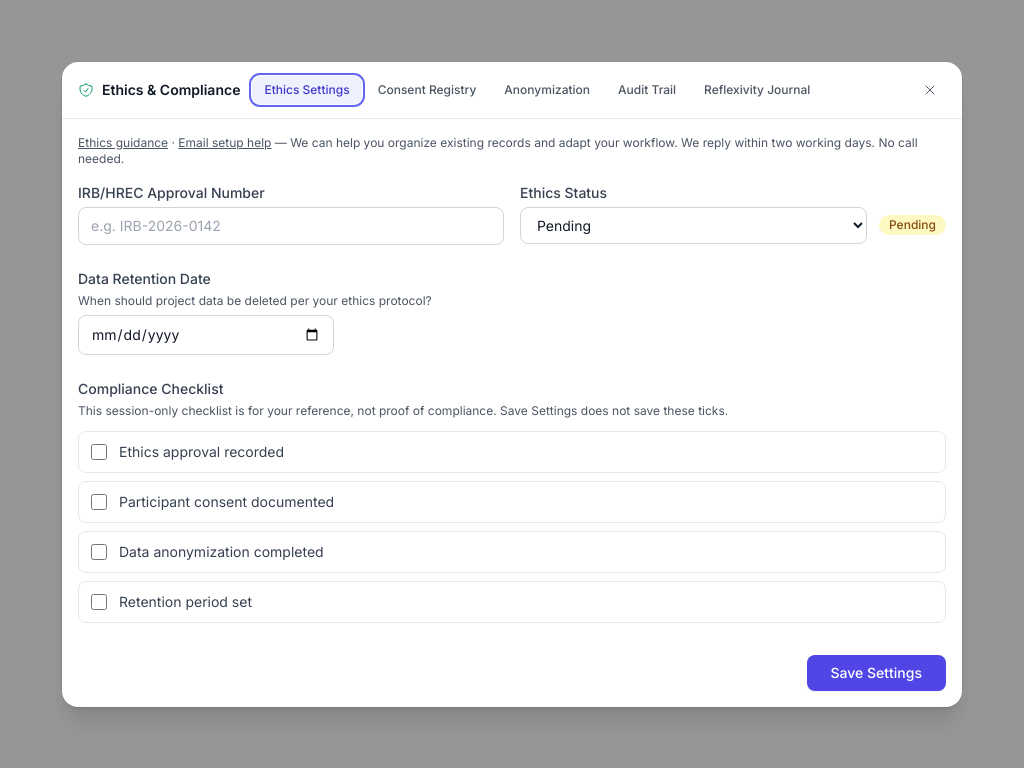
ethics panel truthful reads and teaching › rejects a malformed journal without making up an empty journal
The width and height of the screenshot is (1024, 768).
Expected: the button "Save Settings" is shown, [807,654,946,690]
Click the button "Reflexivity Journal" at coordinates (757, 90), box [692,76,822,104]
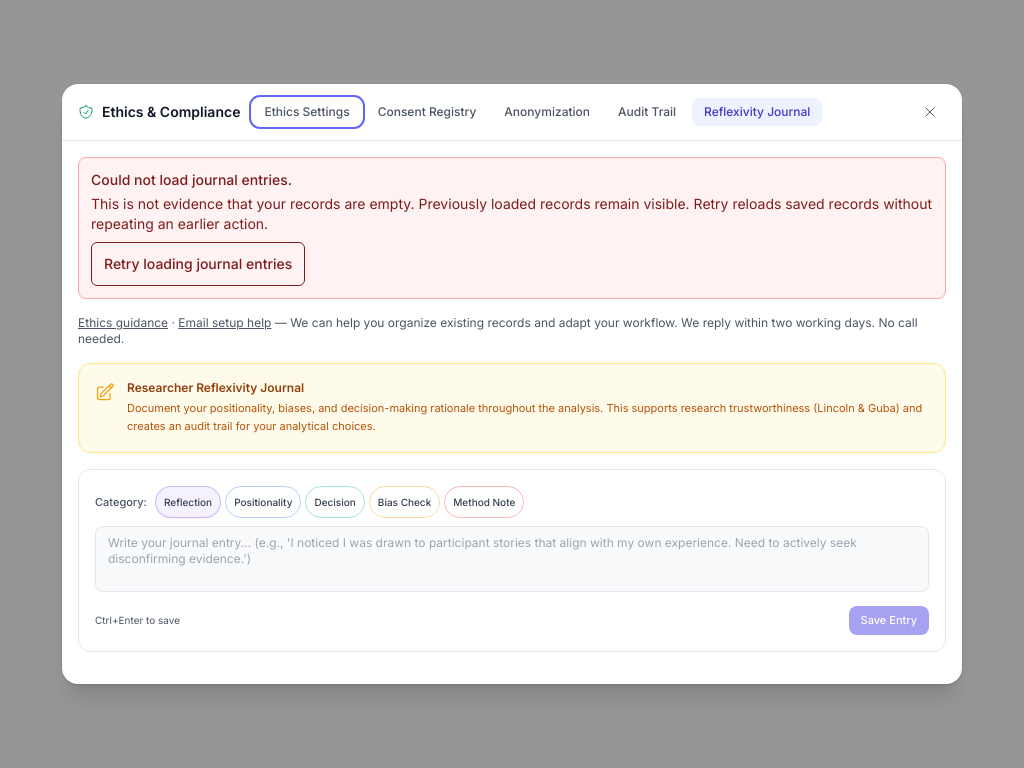
Expected: the message shows "Could not load journal entries", [78,157,946,299]
